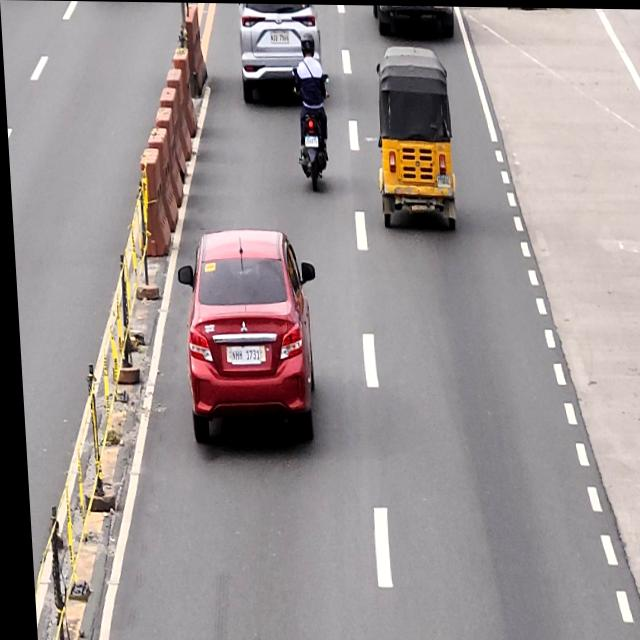Car: (170, 225, 320, 452), (236, 3, 324, 105)
E-bike: (369, 43, 456, 228)
License-Plate: (225, 346, 256, 364), (269, 31, 289, 44), (434, 172, 448, 188), (303, 134, 317, 146)
Motorcycle: (291, 65, 334, 191)
